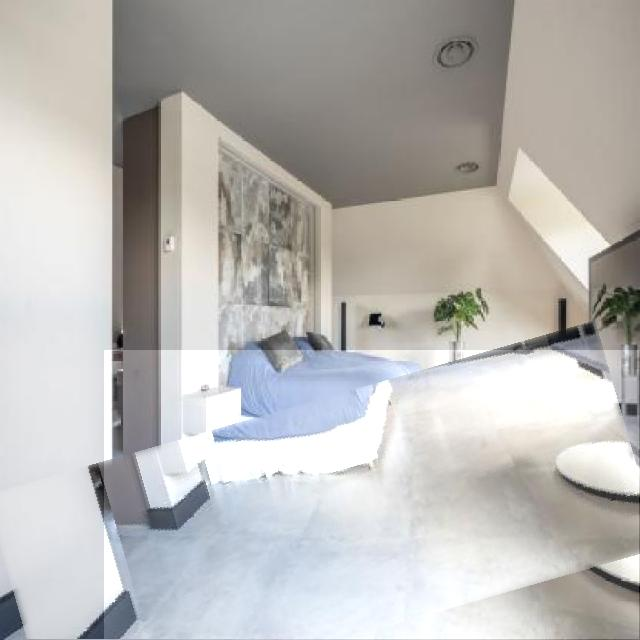floor: (105, 351, 640, 640)
